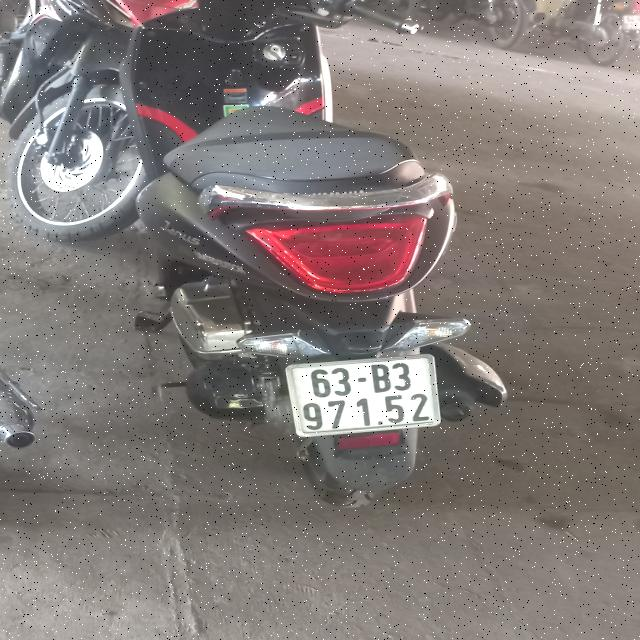1: (355, 398, 370, 426)
2: (410, 393, 430, 421)
3: (392, 362, 412, 392), (332, 367, 351, 396)
5: (385, 396, 405, 424)
6: (311, 368, 331, 398)
7: (328, 401, 344, 428)
9: (302, 403, 324, 430)
B: (370, 364, 391, 393)
